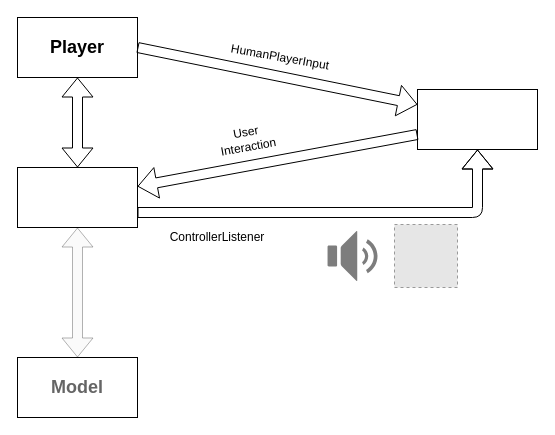
Some shapes in this 555 by 435 pixel diagram are drawn without their labels. Grey dashed boxes stand in for pictures. Here are the shapes that lost their labels. From the top down, the centre of each, then its label:
At [477,119]: "View".
At [77,197]: "Controller".
